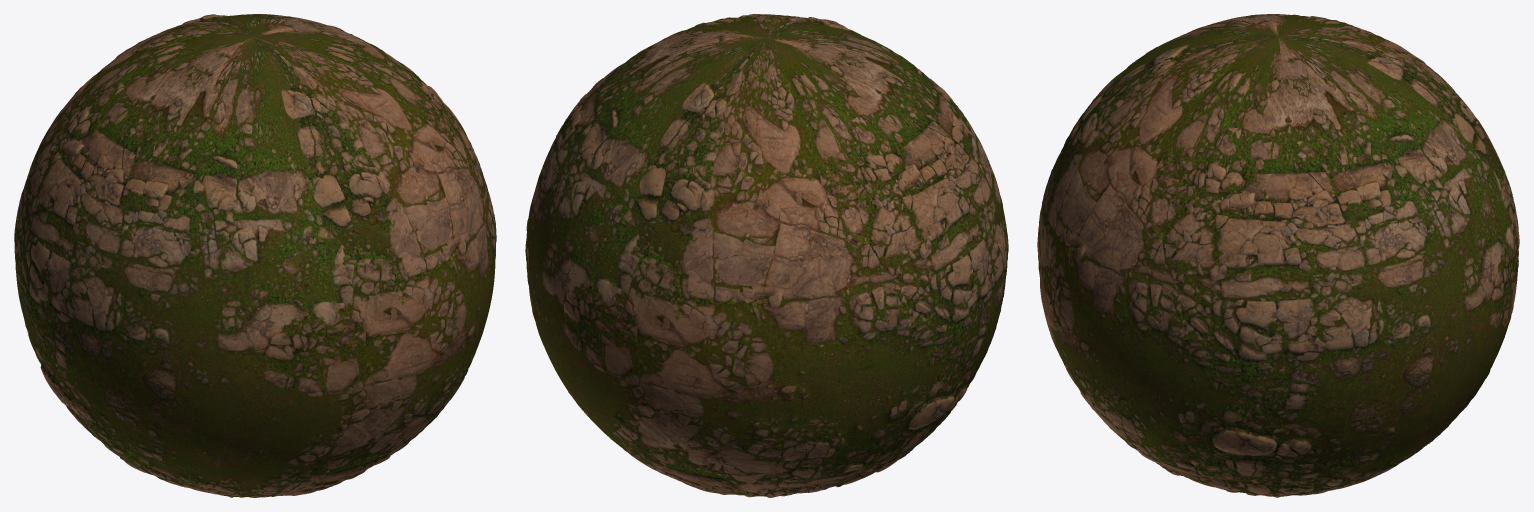
File: rocky_terrain_03_1k.gltf
3 views of the same model, side by side, from view 1: azimuth 30°, elevation 25°; view 2: azimuth 150°, elevation 25°; view 3: azimuth 270°, elevation 25° (orthographic).
Parts seen in each view (by area): view 1: sphere_gltf; view 2: sphere_gltf; view 3: sphere_gltf.
Boxes of the visible parts, x1,y1,x2,y2 form: sphere_gltf: (14, 14, 496, 497); sphere_gltf: (525, 14, 1008, 497); sphere_gltf: (1037, 14, 1519, 497).
Size of the model in its own units: 89.79 by 89.82 by 89.48.
Materials: 1 (1 with a texture image).
